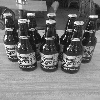beer: (16, 20, 36, 75)
